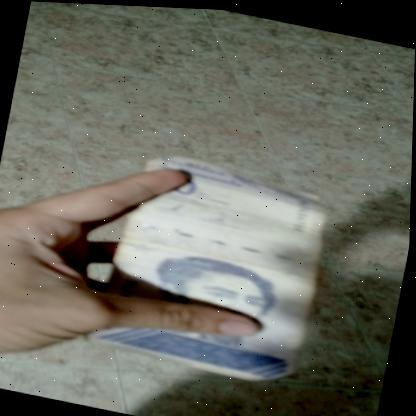ten-front-vef: (87, 142, 334, 387)
